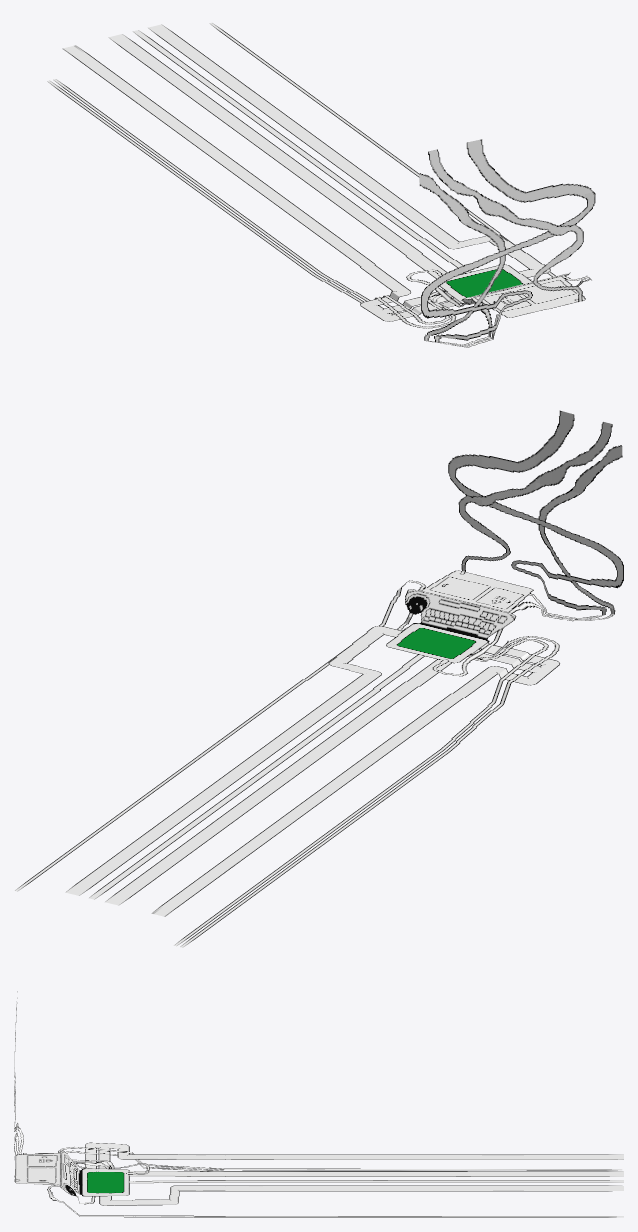
The model's file is Computer.fbx.
3 views of the same model, one above another, from view 1: azimuth 30°, elevation 25°; view 2: azimuth 150°, elevation 25°; view 3: azimuth 270°, elevation 25° (orthographic). The views are drawn at different scales.
Parts seen in each view (by area): view 1: Plane; view 2: Plane; view 3: Plane.
Part boxes in pixels (left/top/right/bottom): Plane: left=47, top=23, right=595, bottom=347; Plane: left=15, top=410, right=623, bottom=947; Plane: left=14, top=991, right=623, bottom=1217.
Bounding box in the file's own units: 203 × 221 × 708.
1 material, 1 textured.
